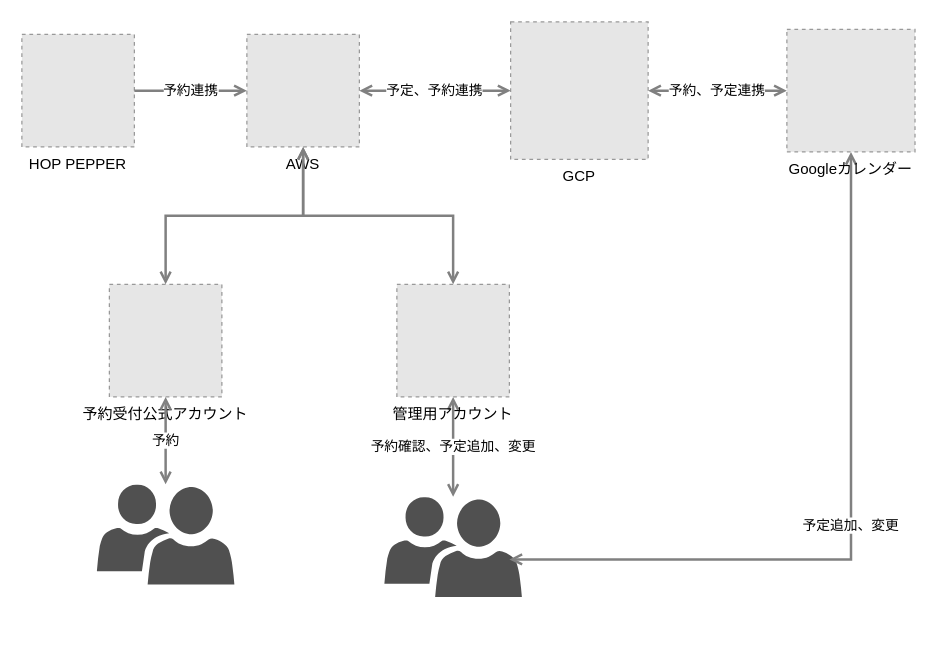
The diagram is 938 pixels wide and 645 high, and some of its shapes have lost their labels. Grey dashed boxes stand in for pictures. The shapes that lost their labels are listed below. From the top down, each one's centre as x and y in pixels, then its label:
At (165,534): "ユーザー".
At (452,546): "管理者".
